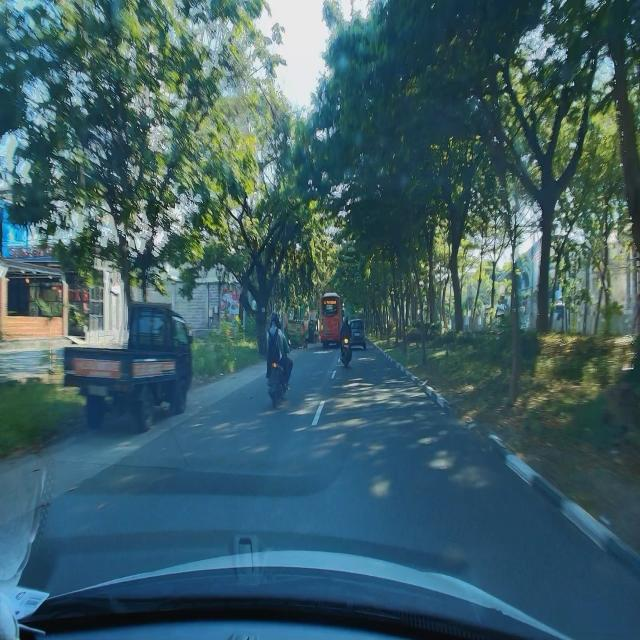bus: (319, 292, 343, 348)
car: (347, 319, 367, 350)
truck: (62, 299, 194, 432)
